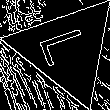L_E: (36, 26, 97, 73)
